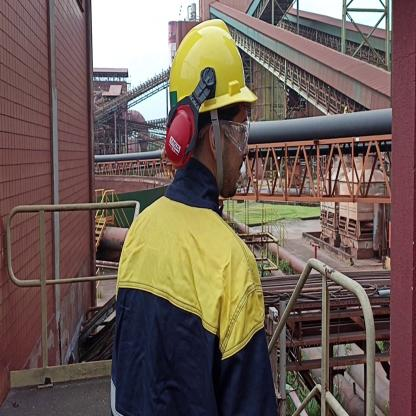C_eletrica: (110, 203, 280, 416)
Capacete: (166, 17, 256, 108)
